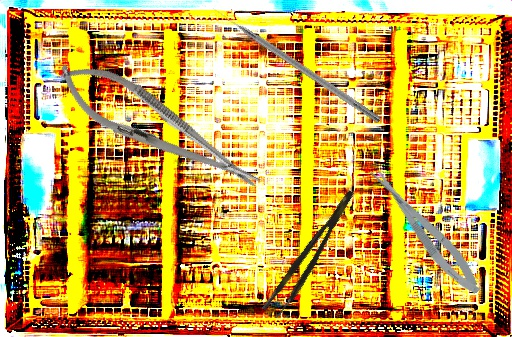Hook Surgical: (210, 3, 383, 125)
Micro Scissor: (365, 159, 487, 302)
Needle Holder: (44, 45, 273, 210)
Tissue Forceps: (260, 188, 366, 321)
